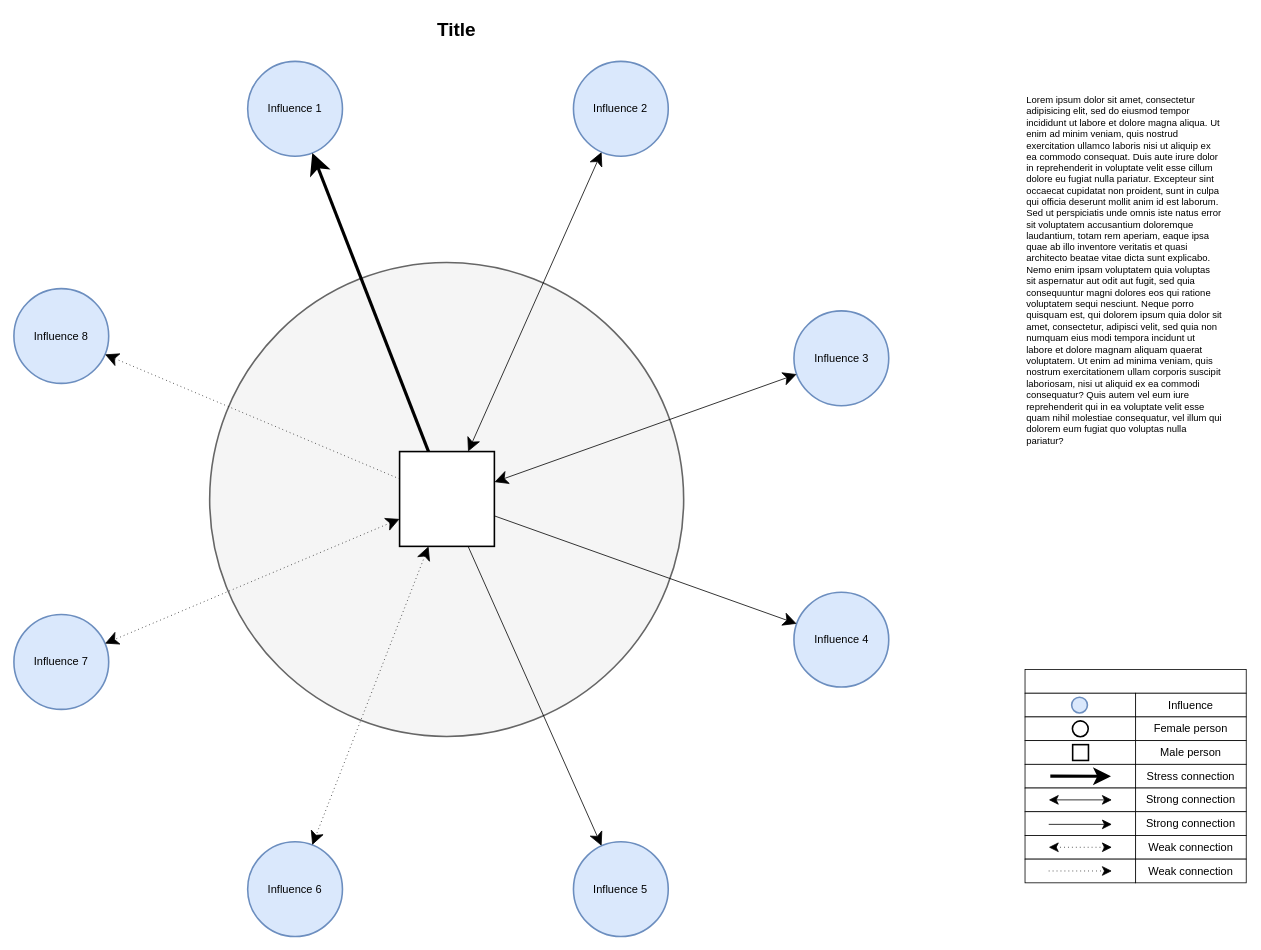
The diagram is 1261 pixels wide and 950 high, and some of its shapes have lost their labels. Here are the shapes that lost their labels. From the top down, the box of each, then its label:
(398, 450, 495, 547): Name Age
(1024, 669, 1246, 693): Legend
